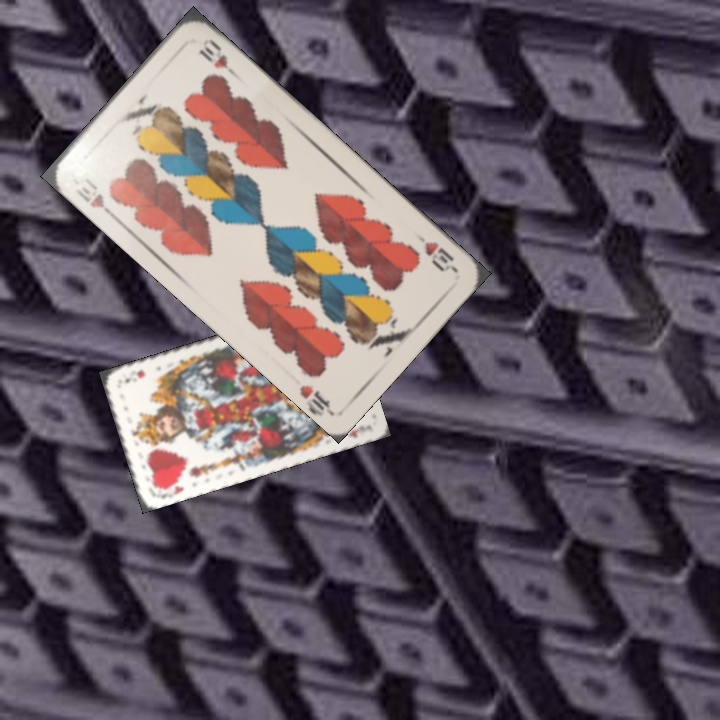H10: (71, 173, 118, 221), (411, 229, 459, 275)
HK: (151, 477, 186, 501)
